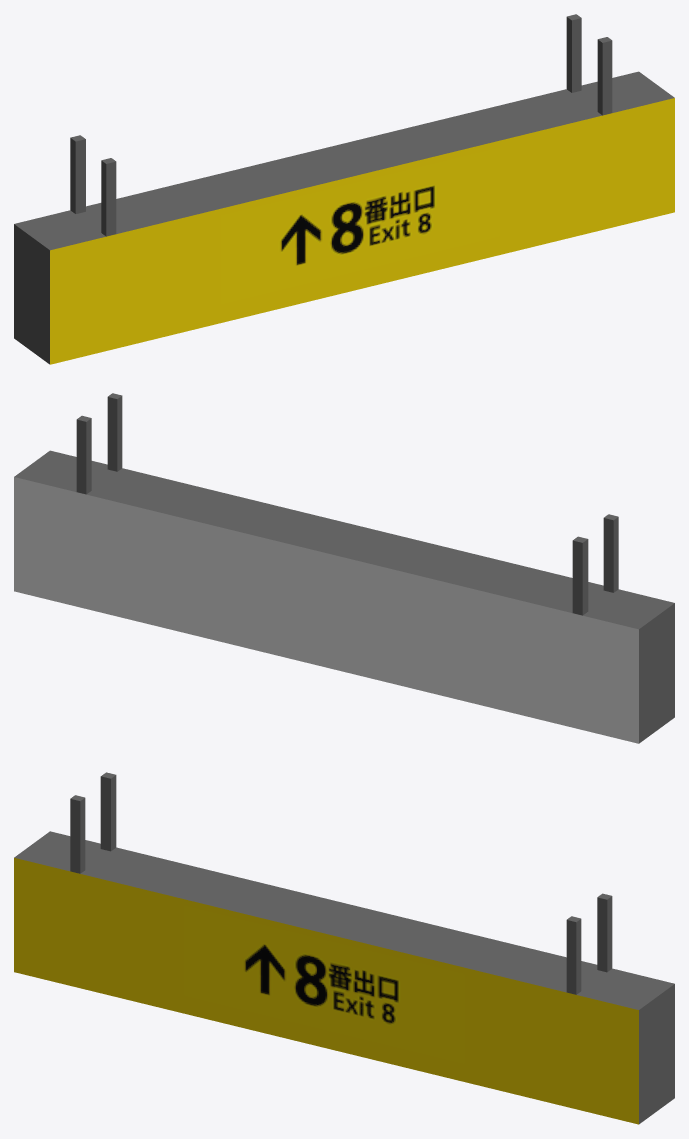
File: Insegna_Luminosa.fbx
The picture shows the model from 3 angles, top to bottom: view 1: azimuth 30°, elevation 25°; view 2: azimuth 150°, elevation 25°; view 3: azimuth 330°, elevation 25°; orthographic projection.
Parts seen in each view (by area): view 1: Insegna_luminosa1; view 2: Insegna_luminosa1; view 3: Insegna_luminosa1.
Part boxes in pixels (x1,y1,x2,y2): Insegna_luminosa1: (14,14,674,364); Insegna_luminosa1: (14,393,674,743); Insegna_luminosa1: (14,772,674,1124).
Size of the model in its own units: 2 by 0.5723 by 0.2.
